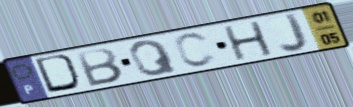B: (74, 46, 126, 88)
C: (172, 31, 220, 69)
D: (32, 52, 85, 95)
H: (221, 19, 277, 63)
J: (277, 12, 311, 54)
Q: (127, 38, 181, 77)
